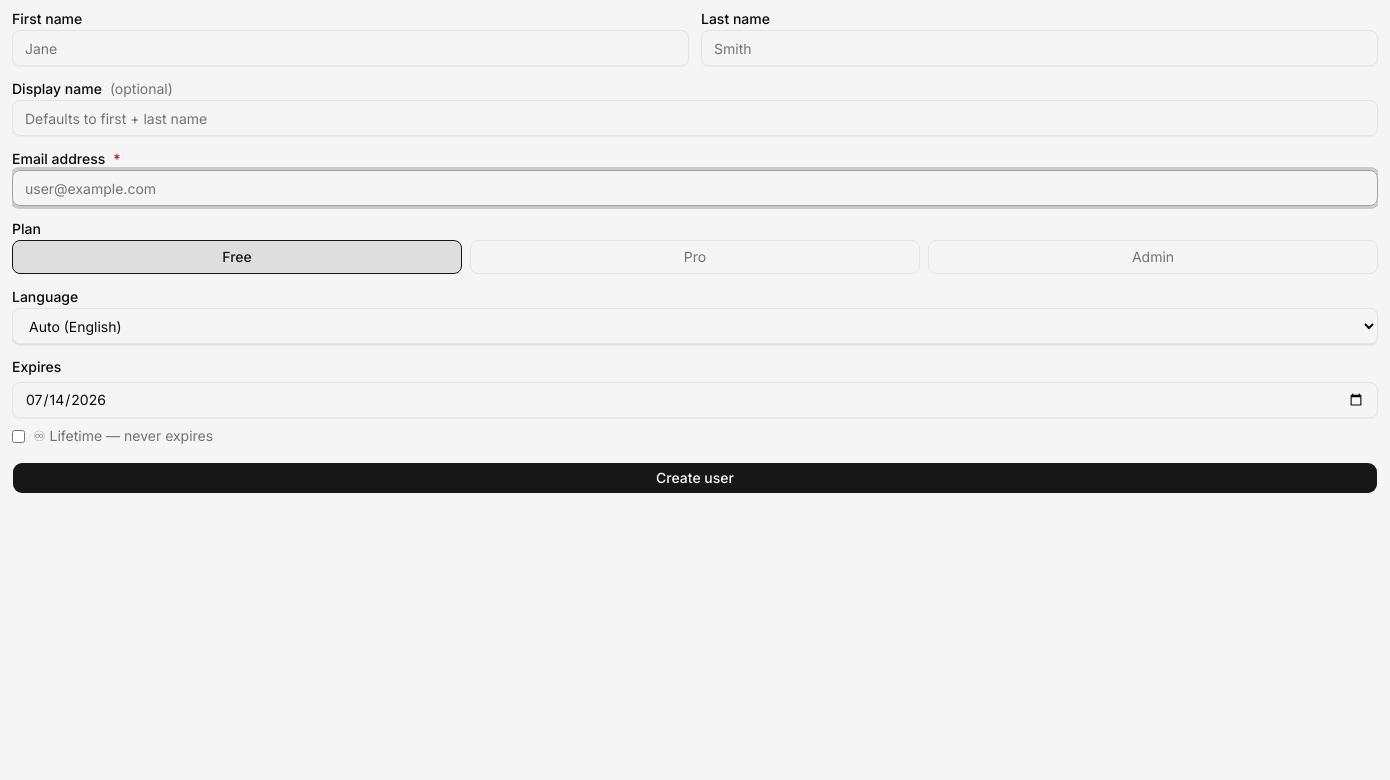
Test case: CreateUserForm › shows a validation error for an invalid email
Type "notanemail" into the field labelled "Email address *" at (695, 188), box left=12, top=170, right=1378, bottom=206
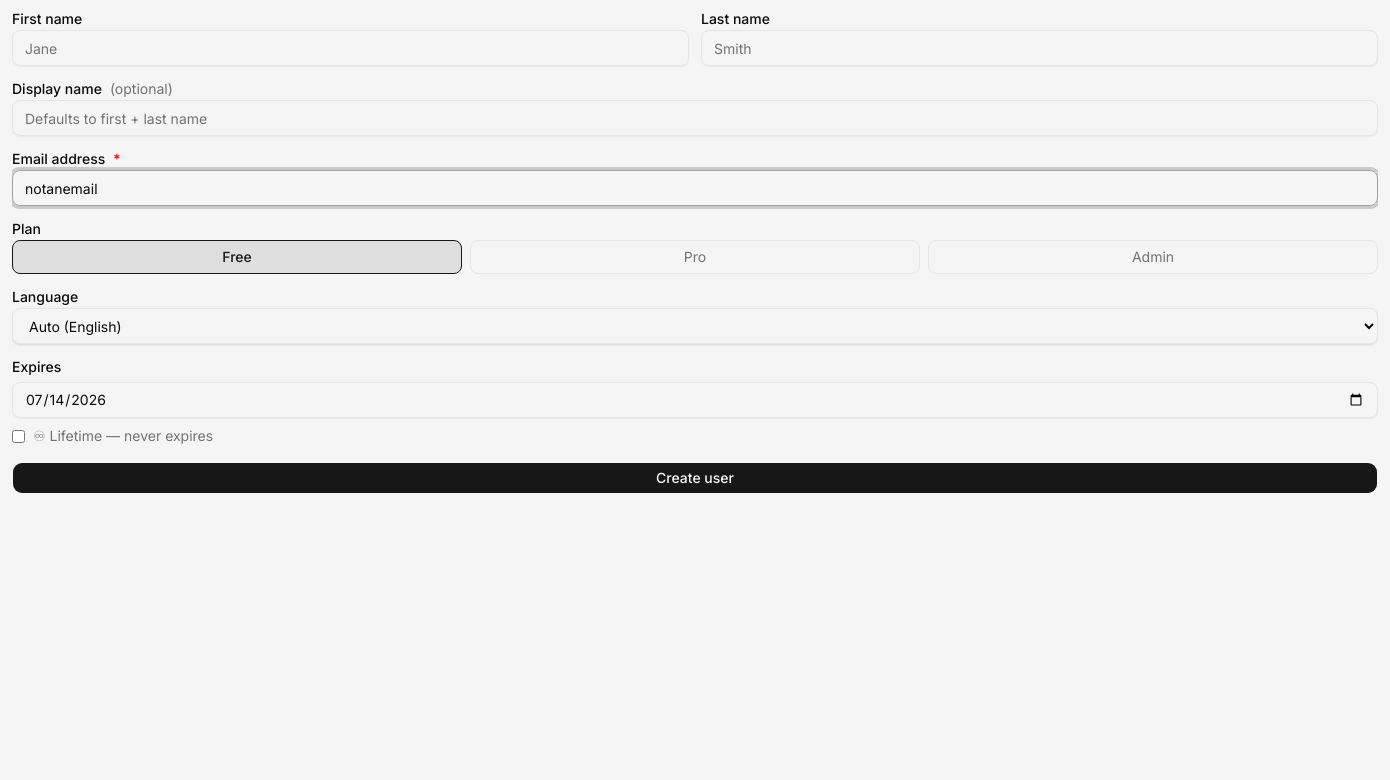
Click the button "Create user" at (695, 478), box left=12, top=462, right=1378, bottom=494
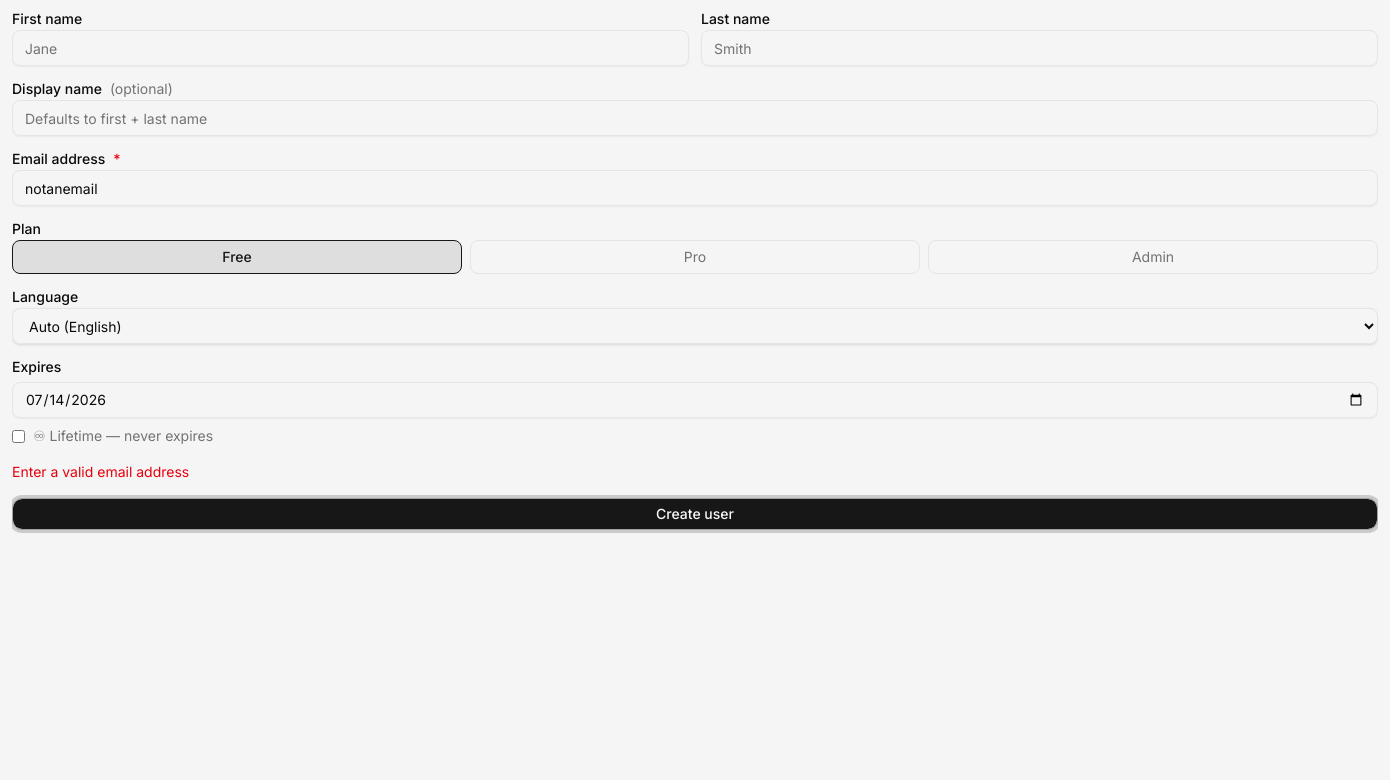
Expected: the message shows "valid email", left=12, top=463, right=189, bottom=480
